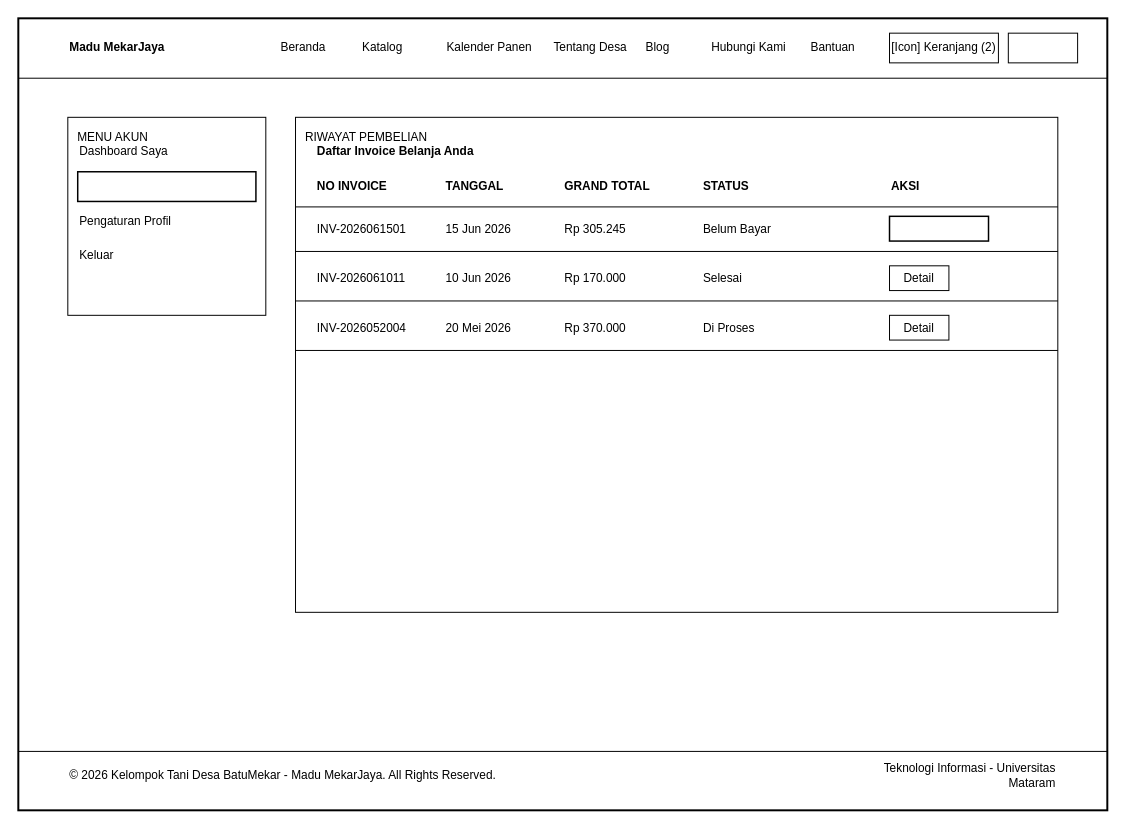
Image size: 1125x828. Some labels were removed from this diagram. The shapes that lost their labels are listed below. From the top down, each one's centre as x and y in pixels, then its label:
the point at 1042,47: [Icon] Akun
the point at 166,186: Riwayat Pesanan
the point at 938,228: Upload Bukti
